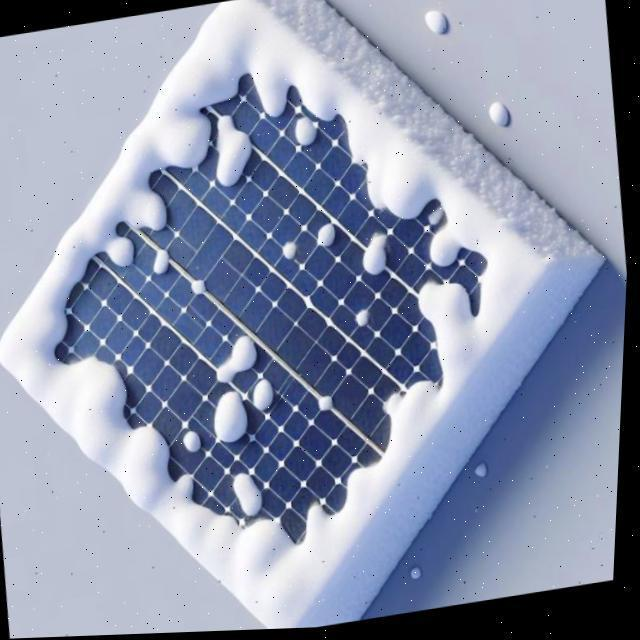Anomaly Solar Panel: (0, 0, 596, 631)
Snow: (0, 0, 595, 631), (211, 336, 266, 397), (215, 114, 253, 190), (231, 471, 270, 522), (215, 392, 250, 447), (359, 233, 394, 281), (251, 381, 278, 416), (291, 119, 318, 152), (183, 432, 204, 458), (315, 225, 335, 252), (153, 251, 171, 278), (280, 242, 301, 265), (353, 312, 373, 333), (190, 280, 207, 299), (319, 399, 335, 415)
